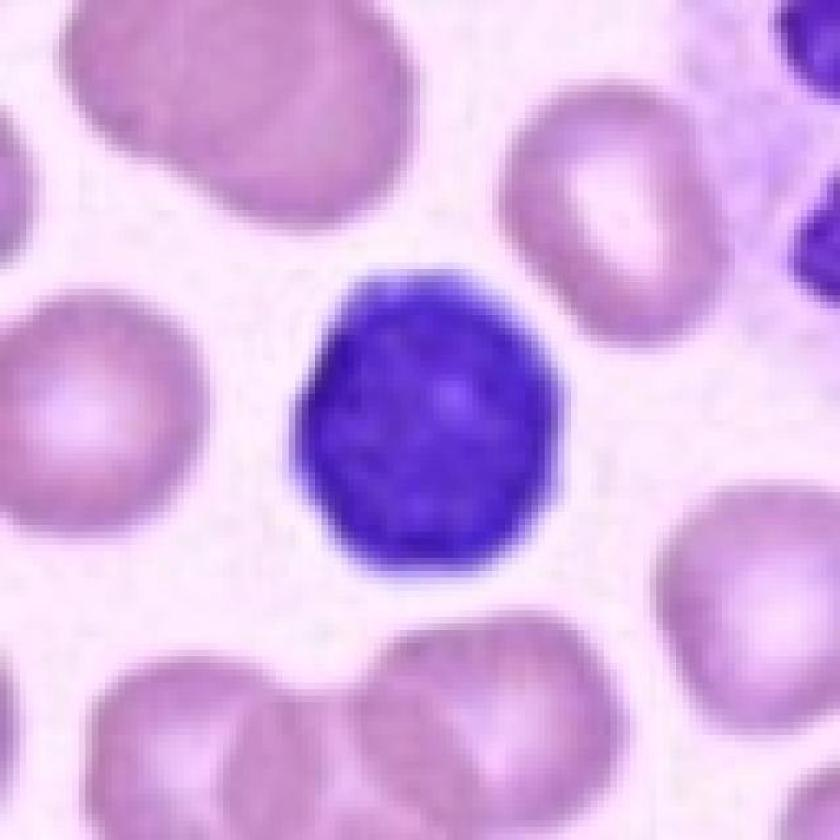lymphocyte: (281, 266, 566, 584)
